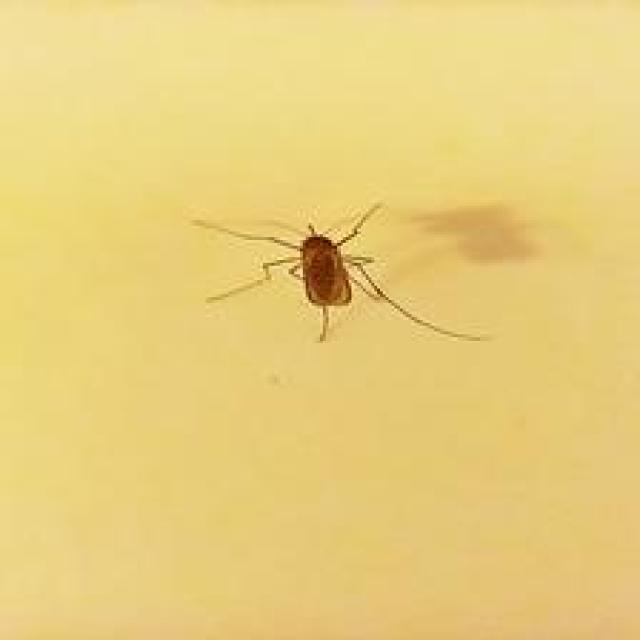Culex: (188, 199, 492, 344)
